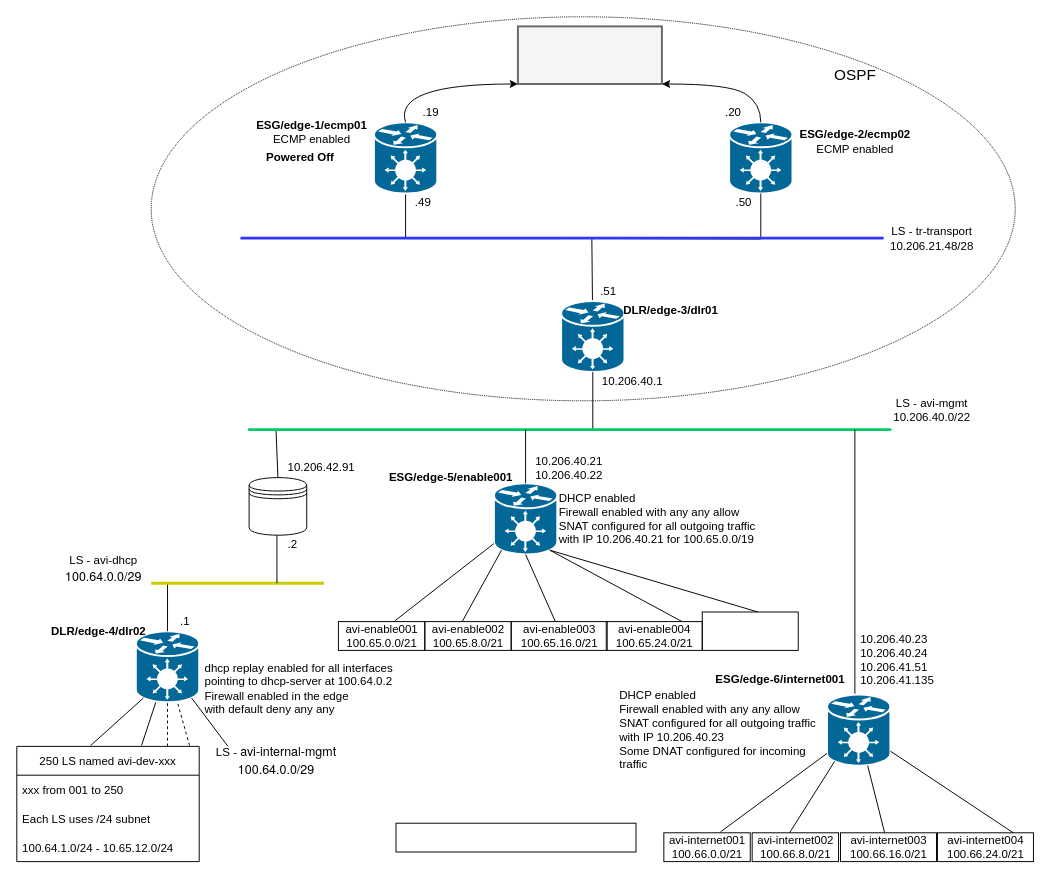
Some shapes in this 1050 by 878 pixel diagram are drawn without their labels. The centre of each missing label's shape, as x and y in pixels:
avi-enable005 100.65.32.0/21: point 749,630
dhcp-server: point 277,506
Distributed Port Group trust-interconnect VLAN1610 - 10.206.5.0/24: point 589,54
Edge-5/6 DHCP does not cover the first and last 256 IPs in the /21 subnets: point 515,837
